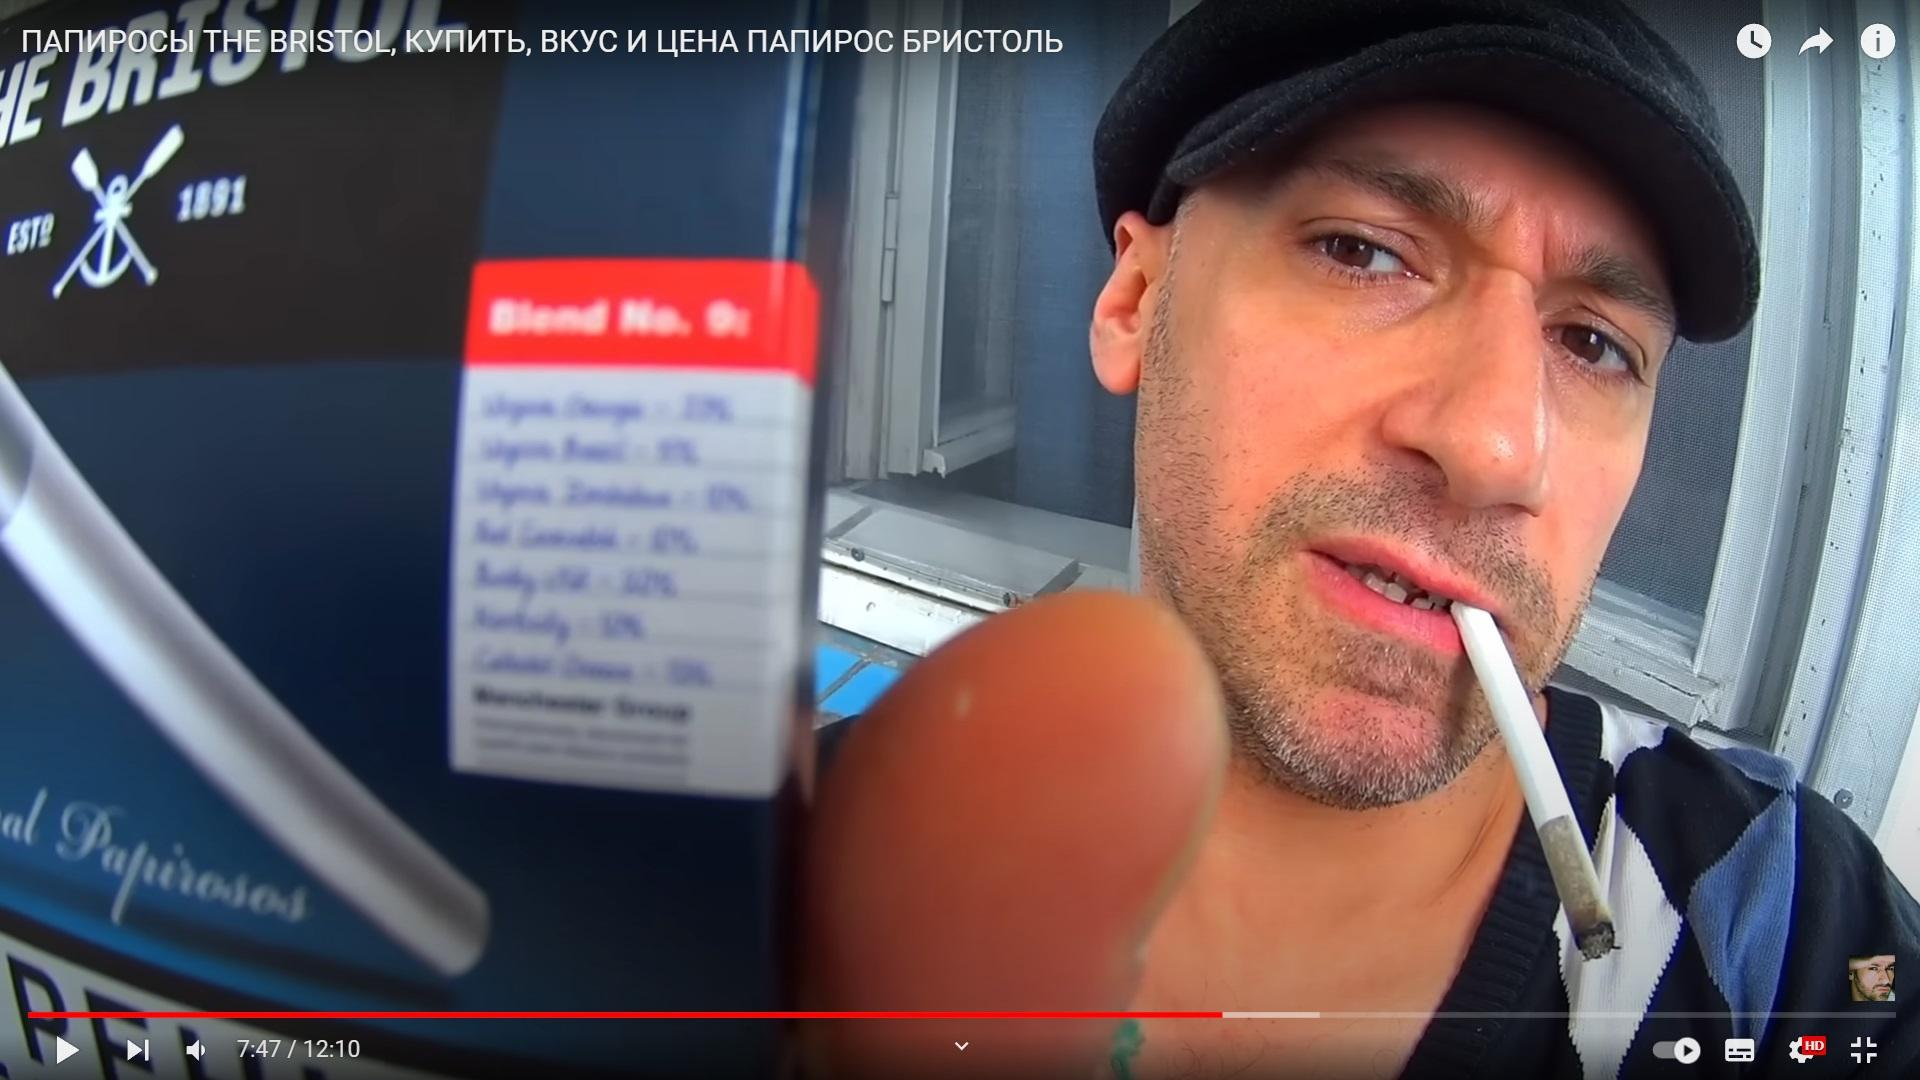cigarette: (1448, 600, 1619, 964)
